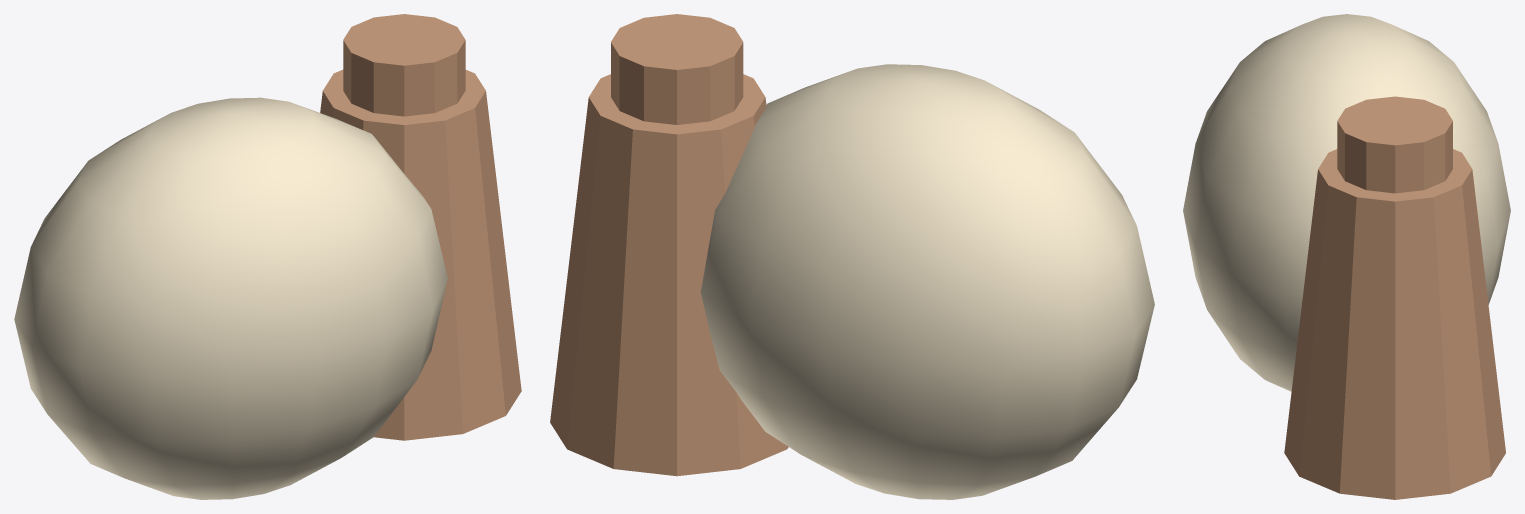
File: supplies.glb
3 renders of one model, left to right at view 1: azimuth 30°, elevation 25°; view 2: azimuth 150°, elevation 25°; view 3: azimuth 270°, elevation 25°, orthographic. The views are drawn at different scales.
Visible parts, largest first — view 1: Travel sack, Clay jar, Jar neck; view 2: Travel sack, Clay jar, Jar neck; view 3: Clay jar, Travel sack, Jar neck.
Part boxes in pixels (left/top/right/bottom): Travel sack: left=14, top=97, right=447, bottom=499; Clay jar: left=320, top=69, right=521, bottom=440; Jar neck: left=343, top=14, right=465, bottom=116; Travel sack: left=700, top=64, right=1154, bottom=499; Clay jar: left=550, top=74, right=788, bottom=476; Jar neck: left=611, top=14, right=743, bottom=124; Clay jar: left=1284, top=149, right=1505, bottom=499; Travel sack: left=1183, top=14, right=1510, bottom=391; Jar neck: left=1337, top=96, right=1452, bottom=193.
Size of the model in its own units: 1.13 by 0.815 by 0.68.
